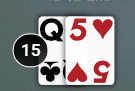5: (64, 16, 90, 43)
q: (37, 16, 65, 44)
